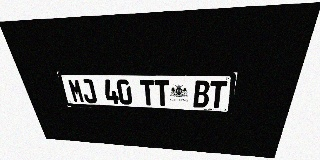0: (116, 79, 133, 105)
4: (102, 79, 119, 104)
B: (193, 80, 210, 108)
J: (79, 79, 97, 103)
M: (67, 79, 85, 103)
T: (209, 81, 227, 108), (139, 80, 155, 106), (154, 80, 170, 106)
